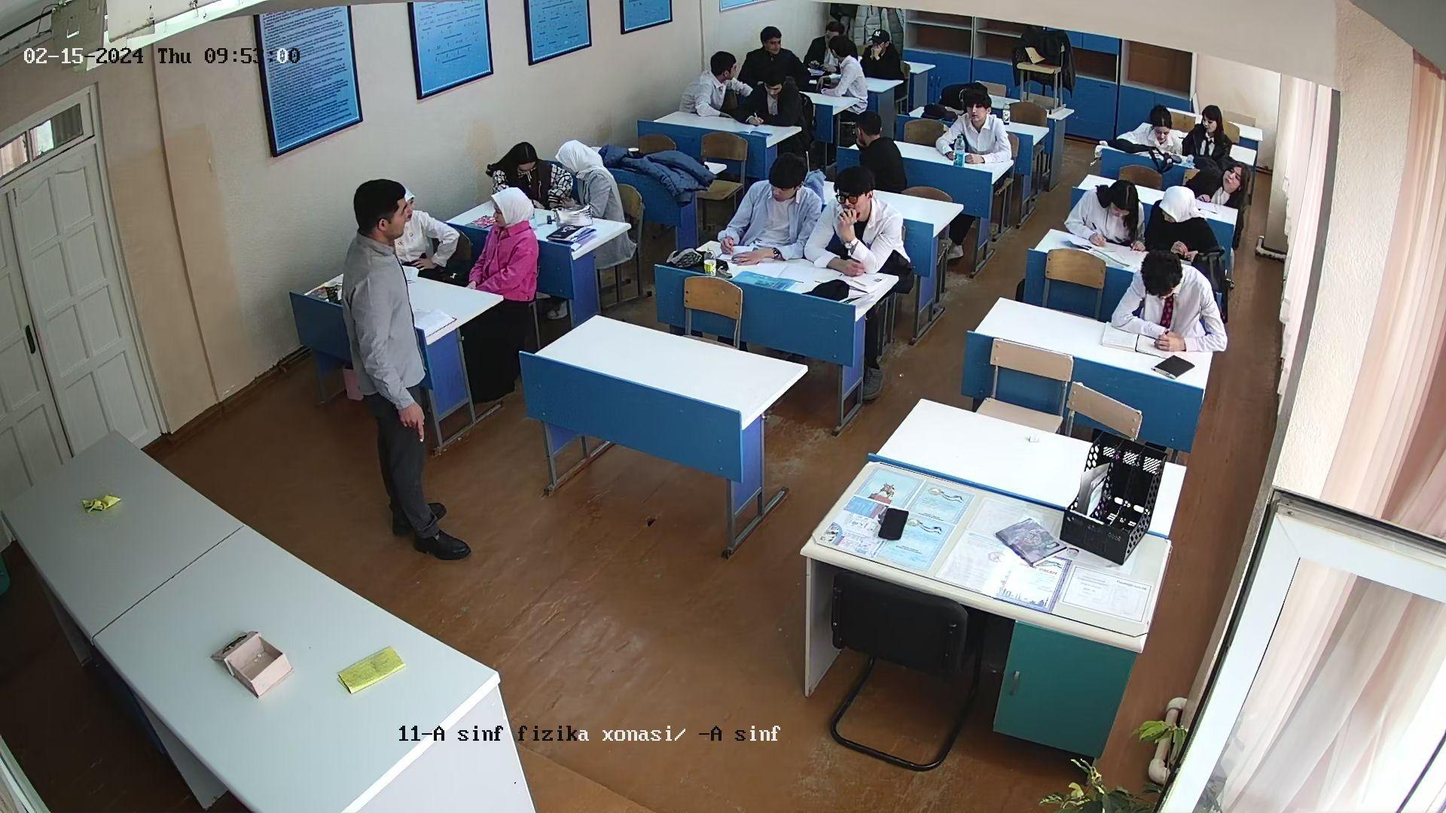Hand Under Table: (1110, 256, 1235, 352)
Look Around: (687, 35, 749, 125), (760, 18, 805, 113), (827, 30, 865, 104), (496, 134, 548, 188), (553, 137, 599, 190), (846, 108, 899, 153), (490, 195, 536, 245), (1201, 158, 1250, 198), (1200, 106, 1223, 150)
Normal: (735, 148, 805, 268), (943, 78, 1014, 178), (1081, 172, 1141, 257), (945, 91, 1011, 167), (1130, 94, 1183, 162), (870, 27, 902, 69)
Stand Up: (337, 172, 476, 559)
Wave: (836, 206, 873, 295)
